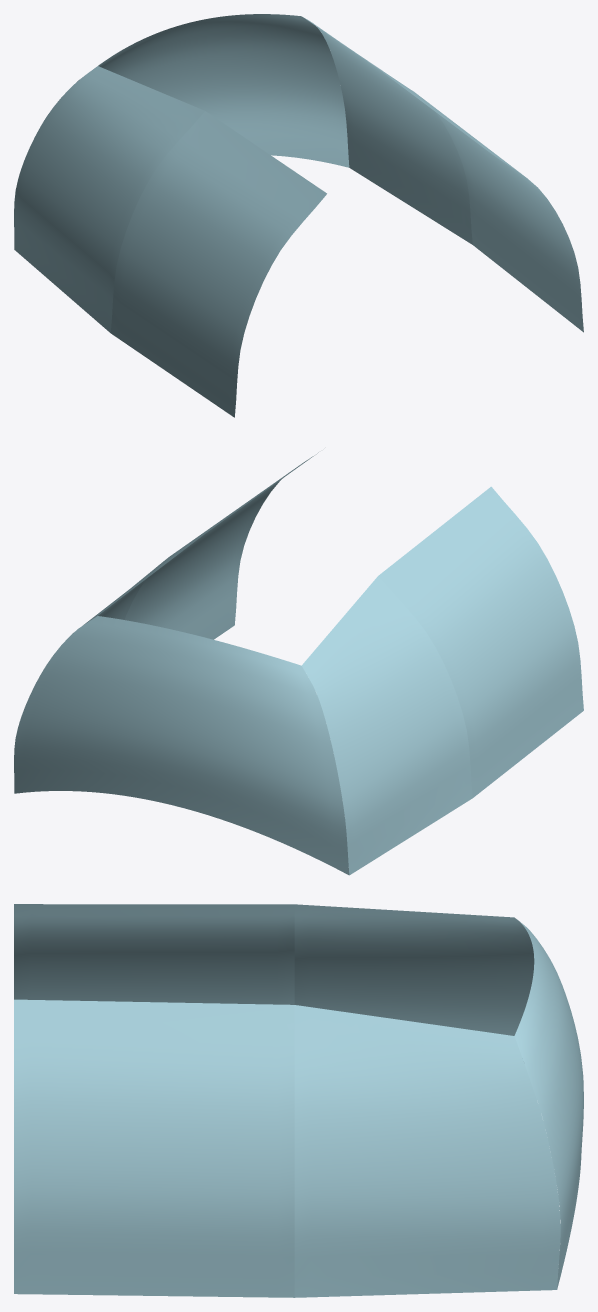
Rendered from glass.glb.
3 views of the same model, one above another, from view 1: azimuth 30°, elevation 25°; view 2: azimuth 150°, elevation 25°; view 3: azimuth 270°, elevation 25° (orthographic). The views are drawn at different scales.
Visible parts, largest first — view 1: HX9_glass; view 2: HX9_glass; view 3: HX9_glass.
Boxes of the visible parts, x1,y1,x2,y2 form: HX9_glass: (14, 14, 583, 417); HX9_glass: (14, 452, 583, 875); HX9_glass: (14, 904, 583, 1297).
Size of the model in its own units: 1.63 by 0.87 by 1.87.
